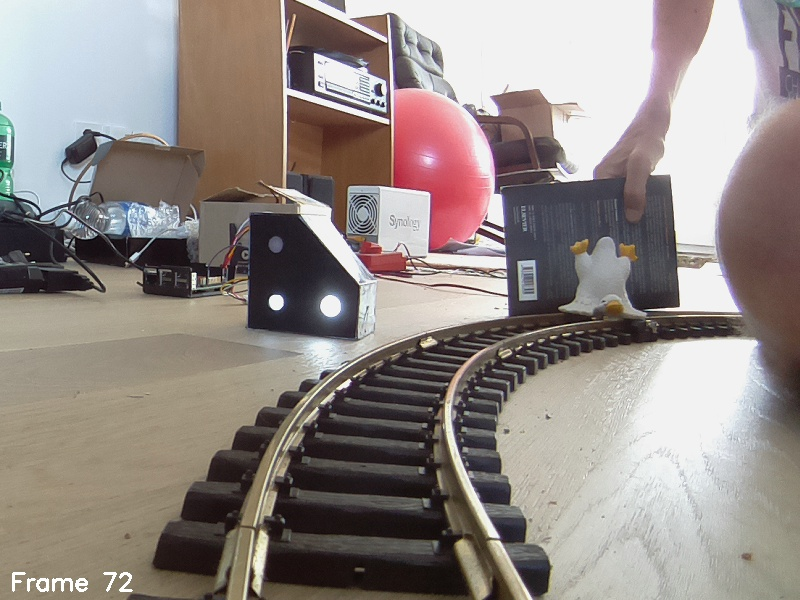Ente: (555, 234, 651, 325)
Halt: (251, 210, 374, 342)
